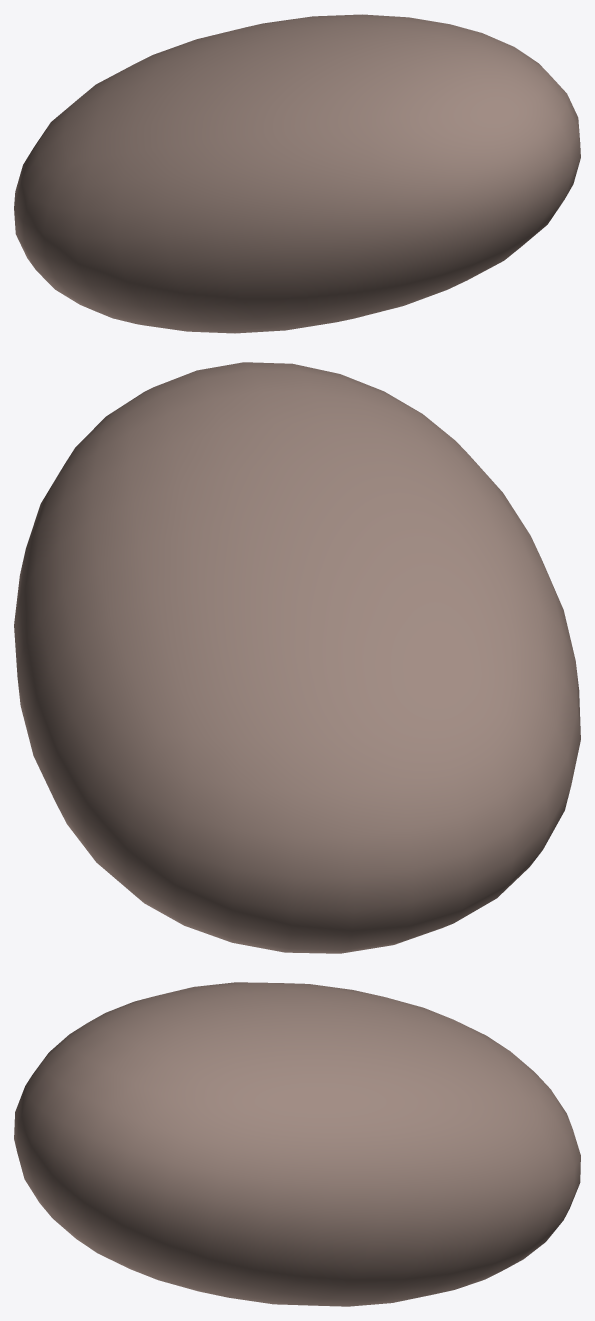
File: Piedra2E.fbx
3 renders of one model, top to bottom at view 1: azimuth 30°, elevation 25°; view 2: azimuth 150°, elevation 25°; view 3: azimuth 270°, elevation 25°, orthographic. The views are drawn at different scales.
Parts seen in each view (by area): view 1: Circle.005; view 2: Circle.005; view 3: Circle.005.
Boxes of the visible parts, x1,y1,x2,y2 form: Circle.005: [14, 14, 580, 333]; Circle.005: [14, 362, 580, 953]; Circle.005: [14, 982, 580, 1306].
Size of the model in its own units: 107 by 67.81 by 113.
